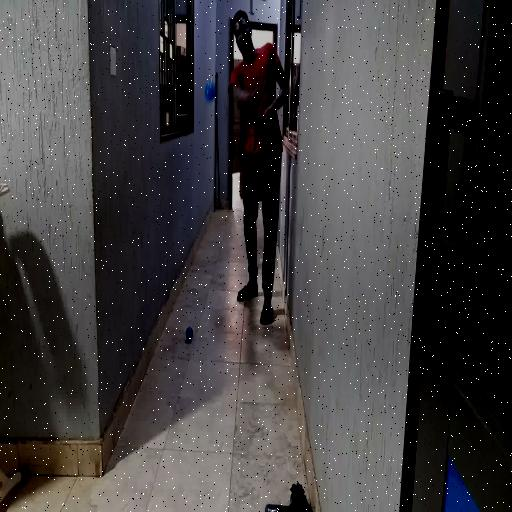plastic-ball: (204, 77, 217, 103)
